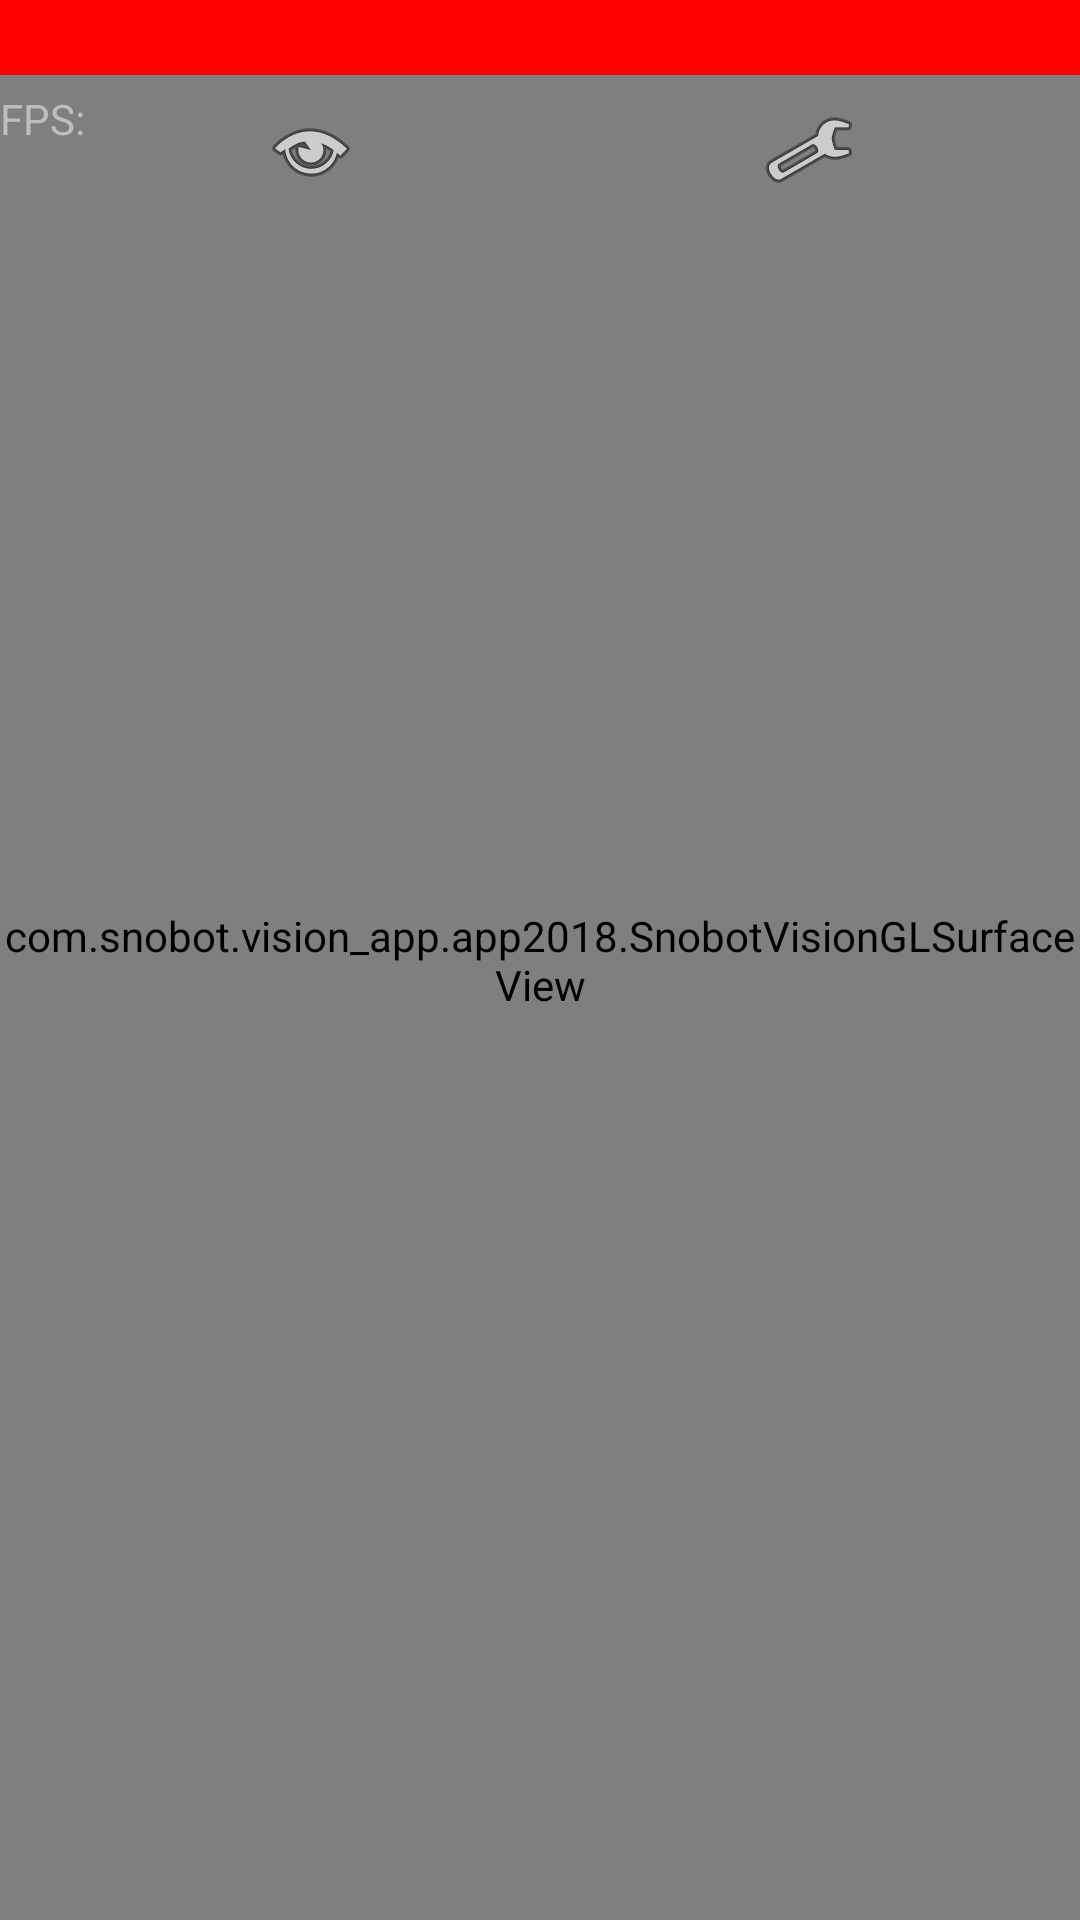

Named icons in this screenshot (1080×1920) and their bounding boxes, (x1, y1, x2, y2):
manage: (766, 117, 852, 183)
